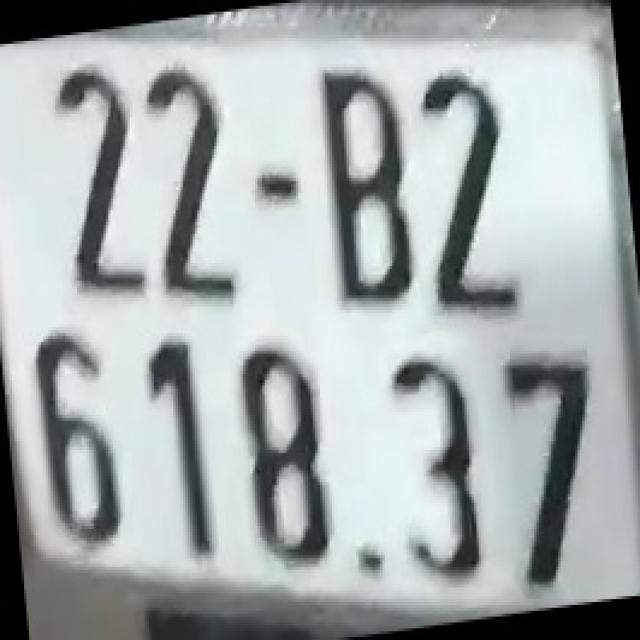1: (144, 336, 219, 561)
2: (420, 59, 530, 318), (147, 58, 243, 301), (50, 59, 146, 298)
3: (385, 351, 486, 578)
6: (31, 330, 125, 546)
7: (502, 348, 594, 588)
8: (240, 339, 332, 567)
B: (310, 58, 419, 310)
